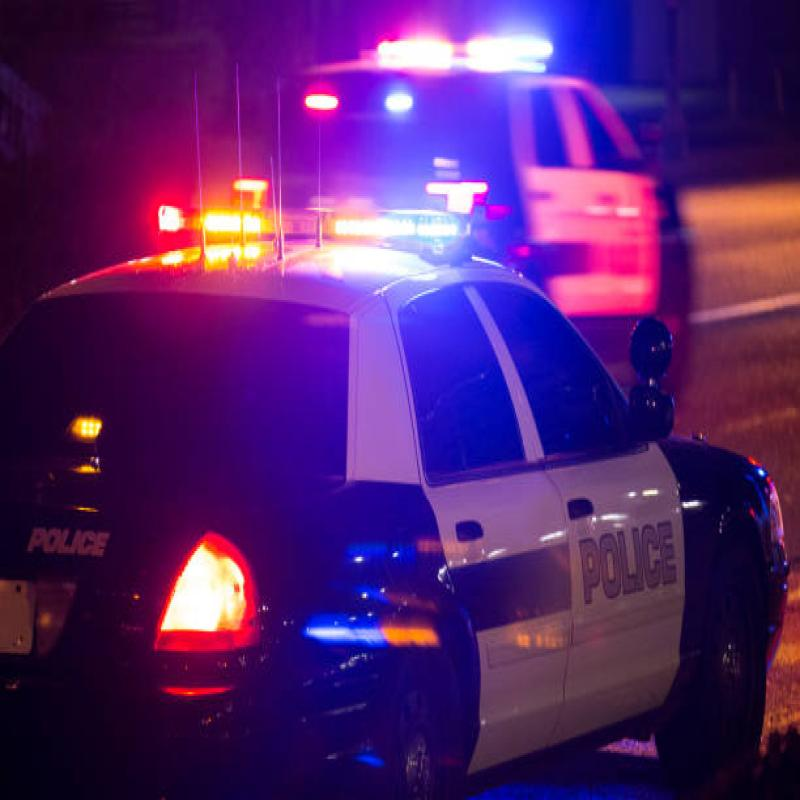AmbulanceSiren: (151, 168, 471, 267)
car: (5, 248, 797, 787)
